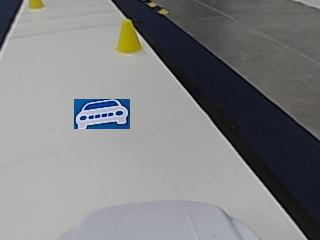cone: (116, 21, 142, 53)
